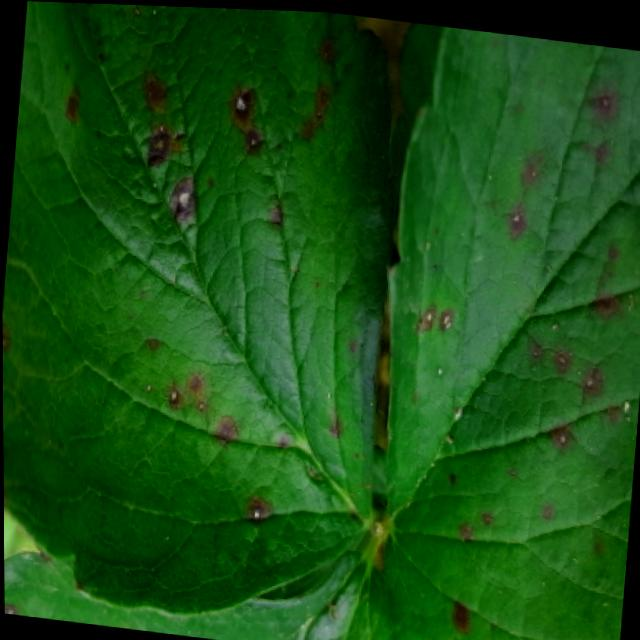Leaf Spot: (2, 1, 396, 614), (370, 22, 640, 640), (3, 539, 399, 640)
